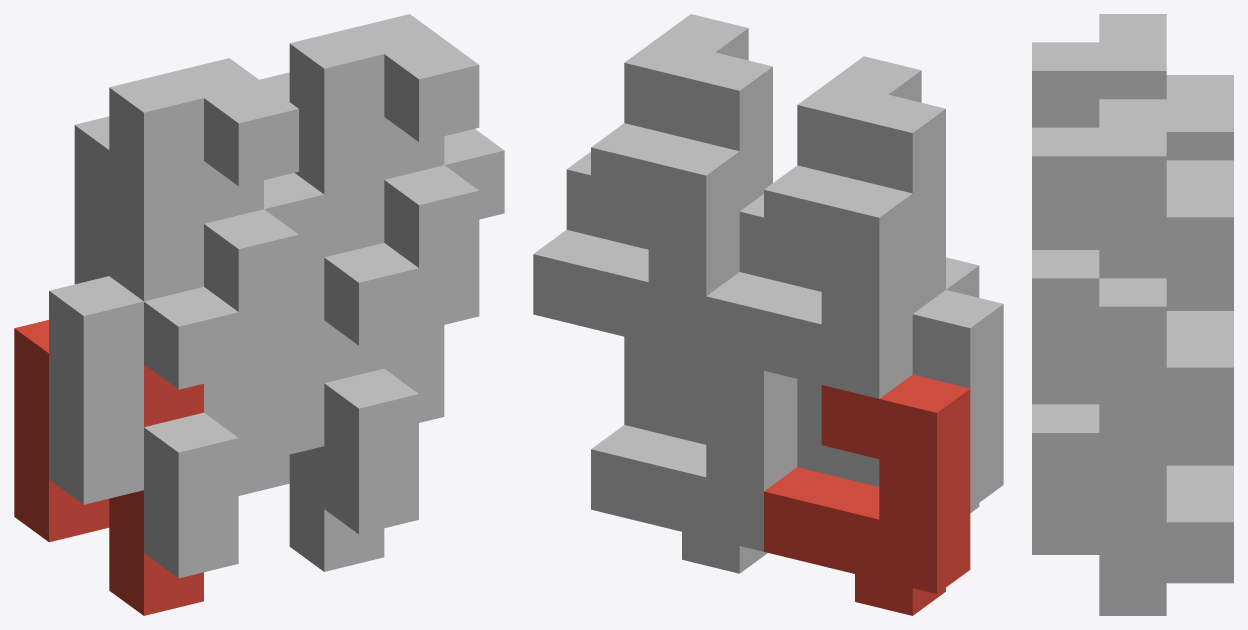
File: tiling.obj
3 renders of one model, left to right at view 1: azimuth 30°, elevation 25°; view 2: azimuth 150°, elevation 25°; view 3: azimuth 270°, elevation 25°, orthographic. The views are drawn at different scales.
Parts seen in each view (by area): view 1: copy_1_domain_4, copy_1_domain_2, copy_1_domain_8, copy_1_domain_6, copy_1_domain_1, copy_1_domain_5, copy_1_domain_3, copy_1_domain_7; view 2: copy_1_domain_3, copy_1_domain_1, copy_1_domain_7, copy_1_domain_5, copy_1_domain_4, copy_1_domain_8, copy_1_domain_2, copy_1_domain_6; view 3: copy_1_domain_8, copy_1_domain_7, copy_1_domain_5, copy_1_domain_6, copy_1_domain_4, copy_1_domain_3, copy_1_domain_2.
Boxes of the visible parts, <box> form: copy_1_domain_4: <box>109,58,324,374</box>; copy_1_domain_2: <box>49,276,263,578</box>; copy_1_domain_8: <box>289,14,504,330</box>; copy_1_domain_6: <box>264,243,444,534</box>; copy_1_domain_1: <box>14,320,203,615</box>; copy_1_domain_5: <box>238,320,384,571</box>; copy_1_domain_3: <box>74,116,263,412</box>; copy_1_domain_7: <box>259,72,444,368</box>; copy_1_domain_3: <box>706,165,912,412</box>; copy_1_domain_1: <box>764,374,970,615</box>; copy_1_domain_7: <box>533,123,739,370</box>; copy_1_domain_5: <box>591,343,797,573</box>; copy_1_domain_4: <box>739,56,945,313</box>; copy_1_domain_8: <box>566,14,772,249</box>; copy_1_domain_2: <box>797,257,1003,512</box>; copy_1_domain_6: <box>624,364,706,444</box>; copy_1_domain_8: <box>1032,99,1166,400</box>; copy_1_domain_7: <box>1099,160,1233,461</box>; copy_1_domain_5: <box>1099,428,1233,615</box>; copy_1_domain_6: <box>1032,404,1166,554</box>; copy_1_domain_4: <box>1032,14,1166,249</box>; copy_1_domain_3: <box>1166,75,1233,160</box>; copy_1_domain_2: <box>1032,400,1099,404</box>.
Bounding box in the file's own units: 7 × 8 × 3.
